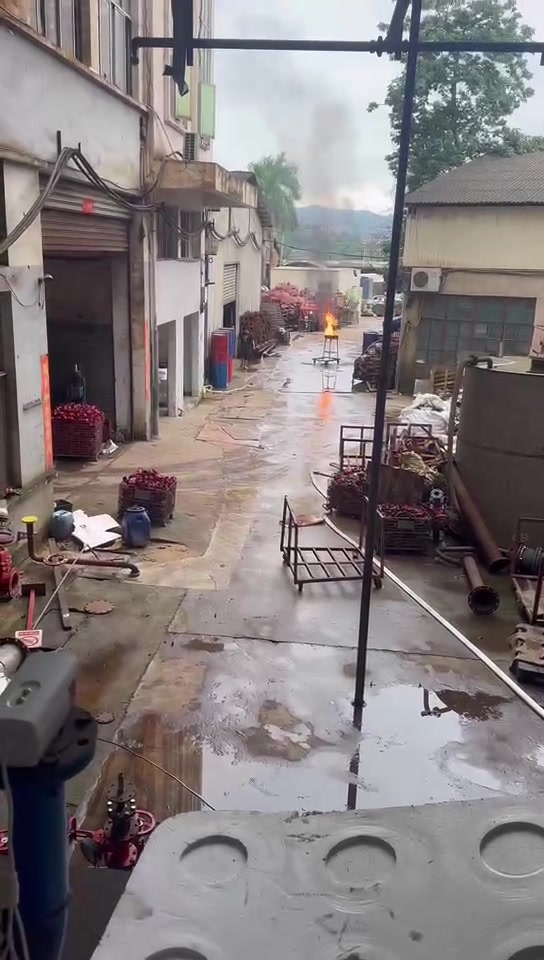fire: (324, 311, 339, 336)
